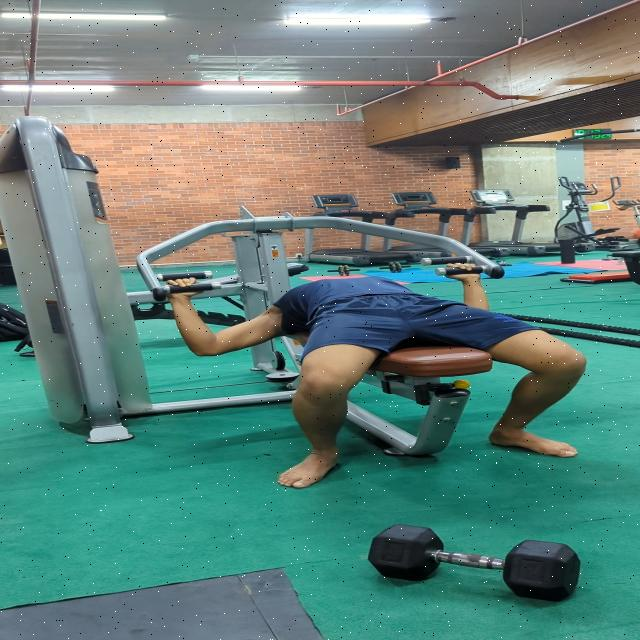Normal_BrenchPress: (150, 236, 640, 494)
